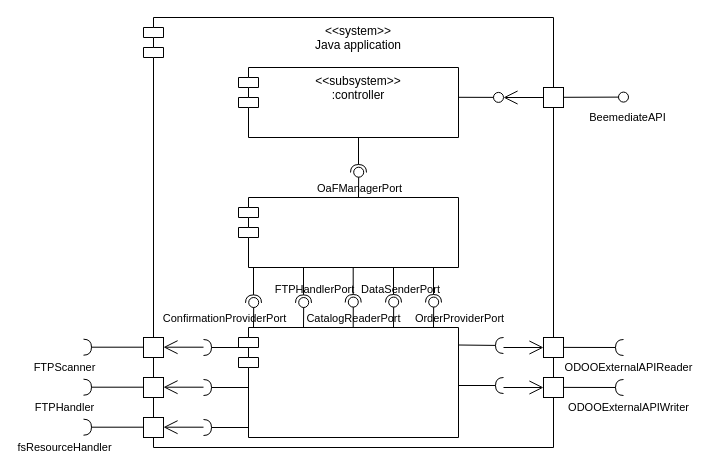
Some shapes in this 710 by 472 pixel diagram are drawn without their labels. The box of each missing label's shape, as (x1, y1, x2, y2) in pixels:
<<subsystem>> :domain: (238, 196, 458, 268)
<<subsystem>> :infrastructure: (238, 326, 458, 438)
